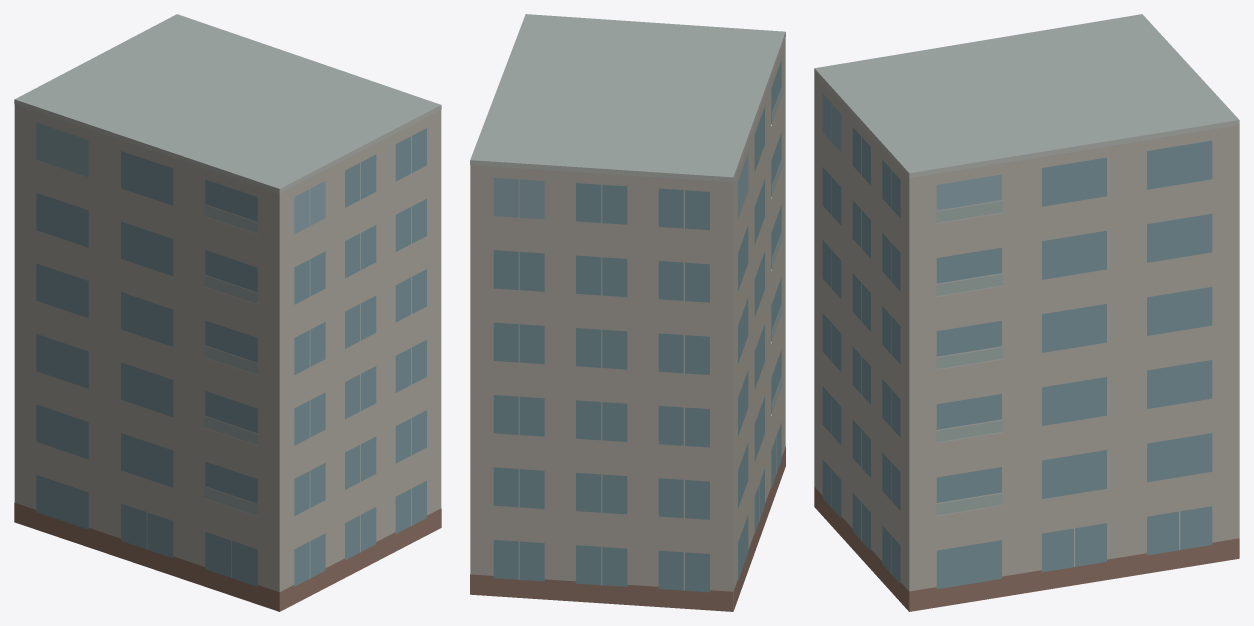
File: survey-upis-32953047.glb
3 renders of one model, left to right at view 1: azimuth 30°, elevation 25°; view 2: azimuth 150°, elevation 25°; view 3: azimuth 270°, elevation 25°, orthographic. The views are drawn at different scales.
Visible parts, largest first — view 1: survey-upis-32953047.tmp; view 2: survey-upis-32953047.tmp; view 3: survey-upis-32953047.tmp.
Boxes of the visible parts, left/top/right/bottom form: survey-upis-32953047.tmp: left=14, top=14, right=441, bottom=611; survey-upis-32953047.tmp: left=470, top=14, right=785, bottom=611; survey-upis-32953047.tmp: left=814, top=14, right=1239, bottom=611.
Size of the model in its own units: 16.59 by 21.3 by 18.72.
